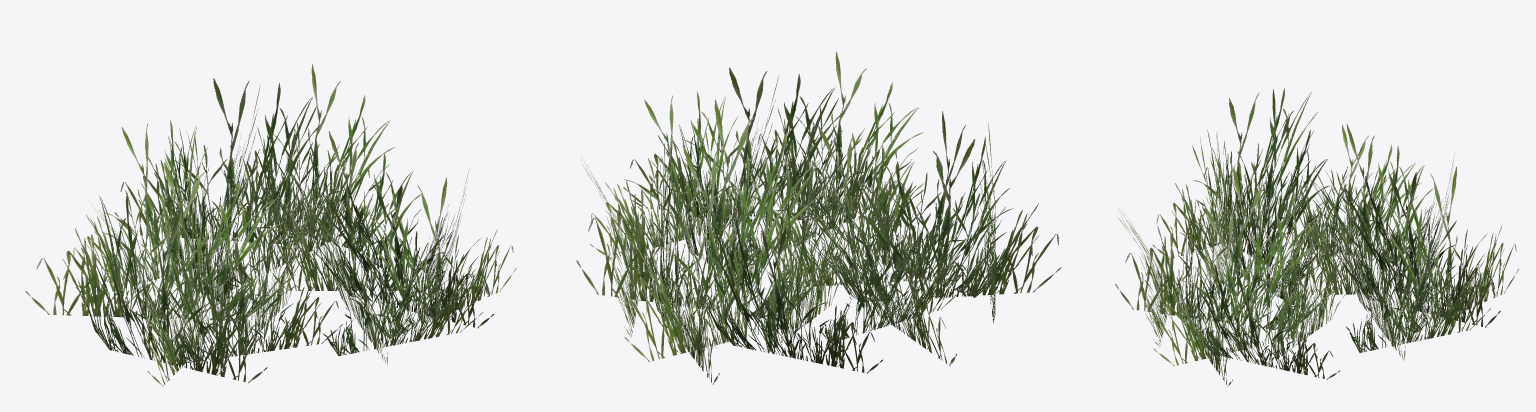
File: ForestGrass2.fbx
3 renders of one model, left to right at view 1: azimuth 30°, elevation 25°; view 2: azimuth 150°, elevation 25°; view 3: azimuth 270°, elevation 25°, orthographic. The views are drawn at different scales.
Parts seen in each view (by area): view 1: ForestGrass2; view 2: ForestGrass2; view 3: ForestGrass2.
Boxes of the visible parts, x1=… form: ForestGrass2: x1=25, y1=64, x2=516, y2=386; ForestGrass2: x1=576, y1=51, x2=1061, y2=384; ForestGrass2: x1=1115, y1=87, x2=1518, y2=386.
Size of the model in its own units: 212 by 124 by 207.
